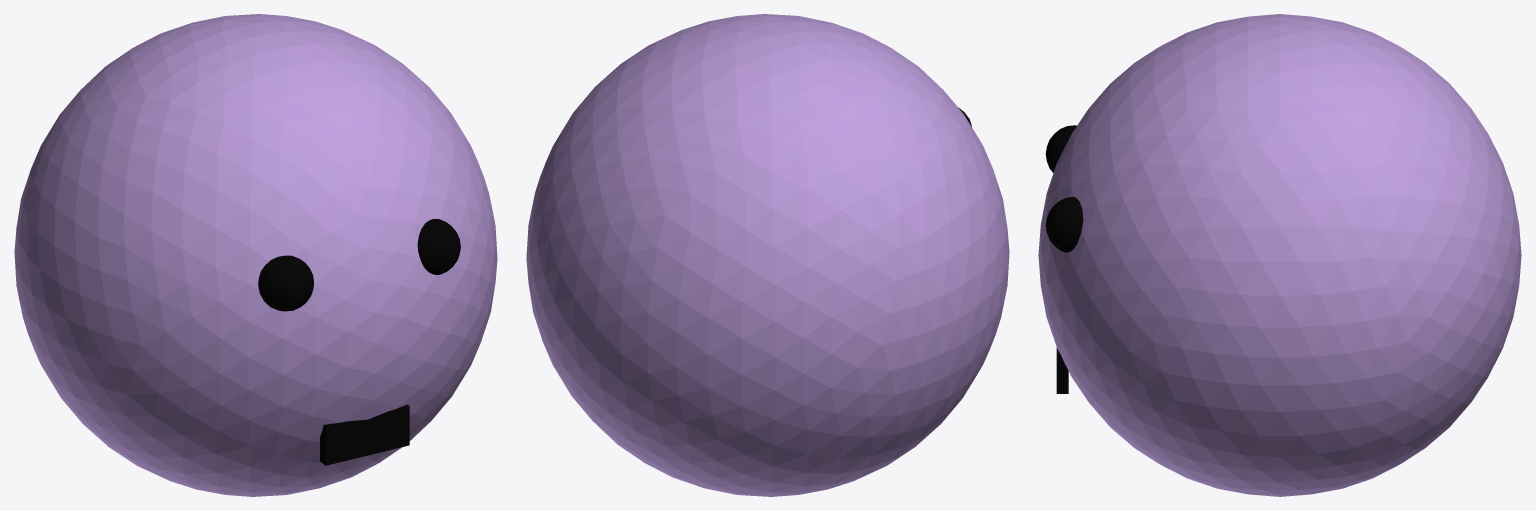
The model's file is emoji_anxious.glb.
3 renders of one model, left to right at view 1: azimuth 30°, elevation 25°; view 2: azimuth 150°, elevation 25°; view 3: azimuth 270°, elevation 25°, orthographic.
Parts seen in each view (by area): view 1: world; view 2: world; view 3: world.
Boxes of the visible parts, <box> form: world: <box>14,14,497,496</box>; world: <box>526,14,1009,496</box>; world: <box>1038,14,1521,496</box>.
Size of the model in its own units: 2 by 2 by 2.
